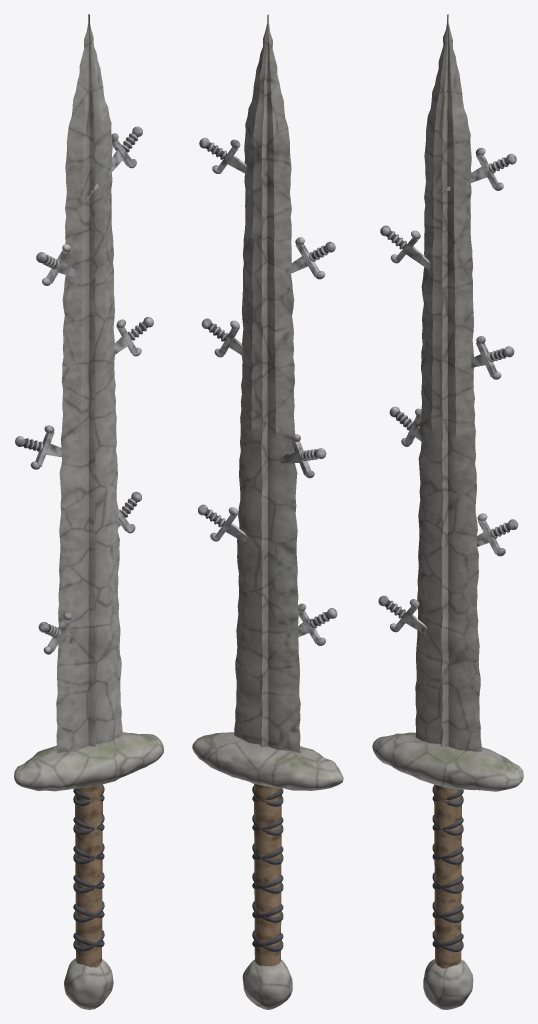
The picture shows the model from 3 angles, left to right: view 1: azimuth 30°, elevation 25°; view 2: azimuth 150°, elevation 25°; view 3: azimuth 330°, elevation 25°; orthographic projection.
Visible parts, largest first — view 1: stone_grey, metal_iron, wood_old, cloth_black; view 2: stone_grey, metal_iron, wood_old, cloth_black; view 3: stone_grey, metal_iron, wood_old, cloth_black.
Part boxes in pixels (x1,y1,x2,y2): stone_grey: (14, 14, 163, 1009); metal_iron: (15, 126, 153, 654); wood_old: (75, 784, 102, 967); cloth_black: (23, 132, 147, 951); stone_grey: (192, 14, 343, 1009); metal_iron: (198, 137, 337, 645); wood_old: (254, 784, 281, 966); cloth_black: (204, 142, 330, 951); stone_grey: (372, 14, 523, 1009); metal_iron: (378, 147, 518, 635); wood_old: (434, 784, 461, 968); cloth_black: (385, 157, 510, 951).
Size of the model in its own units: 0.3372 by 2.17 by 0.1287.
Materials: 4 (4 with a texture image).
